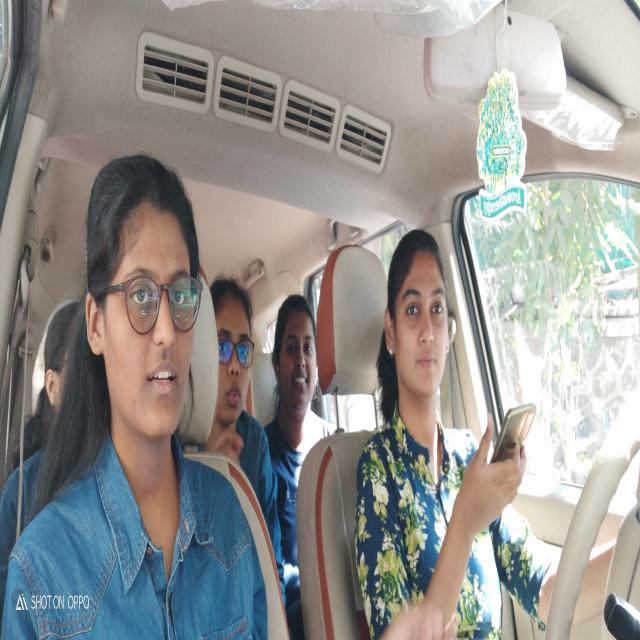mobile: (488, 398, 538, 480)
person: (86, 149, 198, 438), (386, 228, 452, 403), (214, 275, 260, 429), (272, 293, 321, 427), (42, 299, 75, 419)
